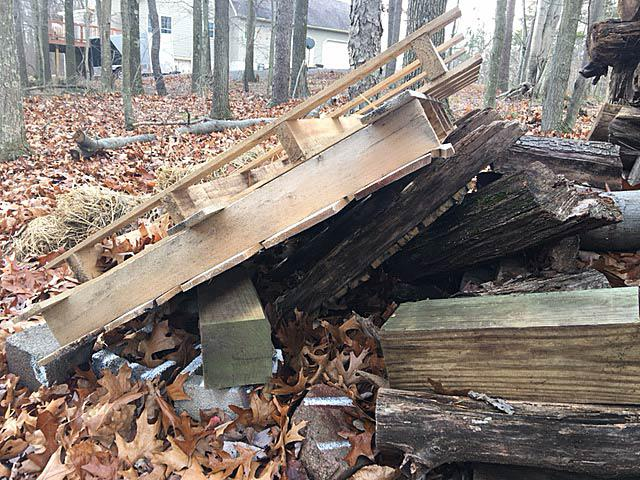wood: (42, 6, 464, 358), (376, 293, 640, 402), (192, 278, 283, 392)
